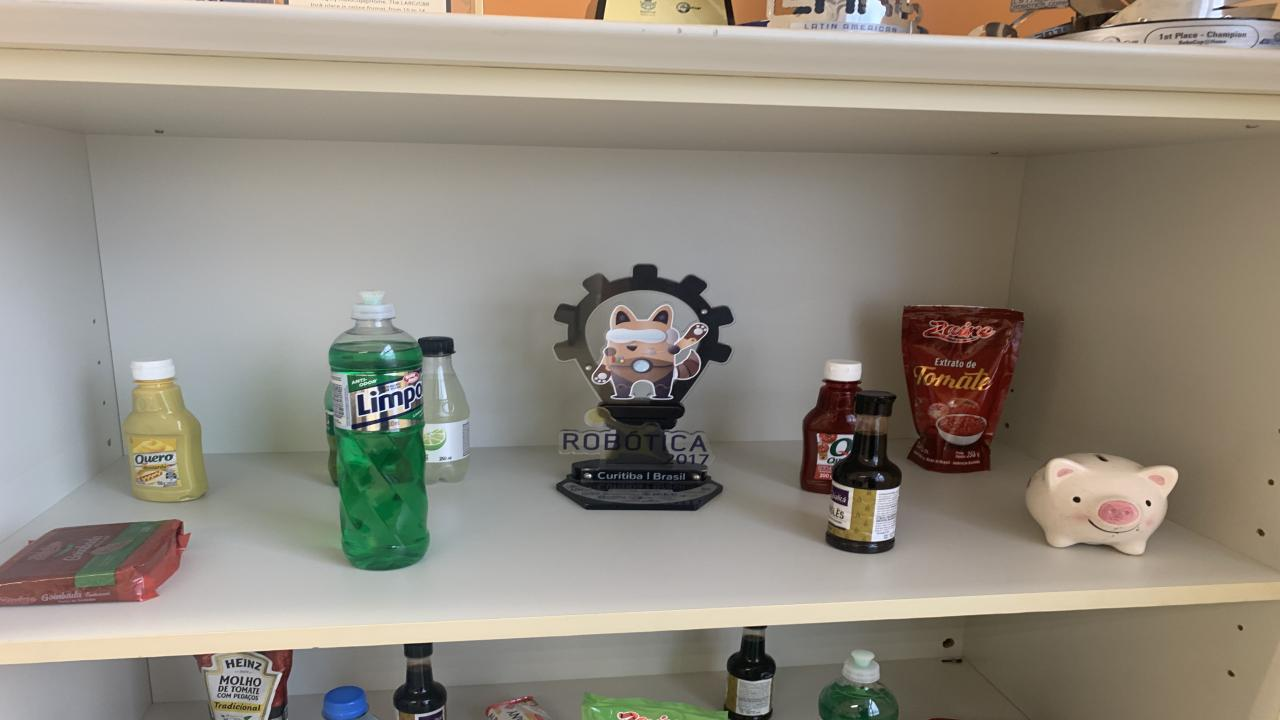Detergent-Cleanup_Items: (330, 292, 430, 570), (838, 392, 900, 484), (820, 651, 900, 720), (840, 504, 878, 536)
English_Sauce-Pantry_Items: (825, 390, 902, 553), (725, 626, 775, 720), (392, 643, 448, 720)
Guarana-Drinks: (325, 382, 338, 486)
Guava-Snacks: (0, 519, 190, 606)
Ketchup-Pantry_Items: (800, 360, 862, 493)
Mustard-Pantry_Items: (122, 360, 208, 502)
Pig_Safe-Miscellaneous: (1025, 454, 1178, 555)
Soap-Cleanup_Items: (485, 696, 550, 720)
Soda-Drinks: (422, 352, 470, 484), (420, 338, 452, 352)
Tomato_Sauce-Pantry_Items: (902, 306, 1022, 472), (195, 651, 292, 720), (582, 692, 728, 720)
Trophy-Miscellaneous: (555, 264, 732, 510)
Water_Bottle-Drinks: (322, 686, 370, 720)
